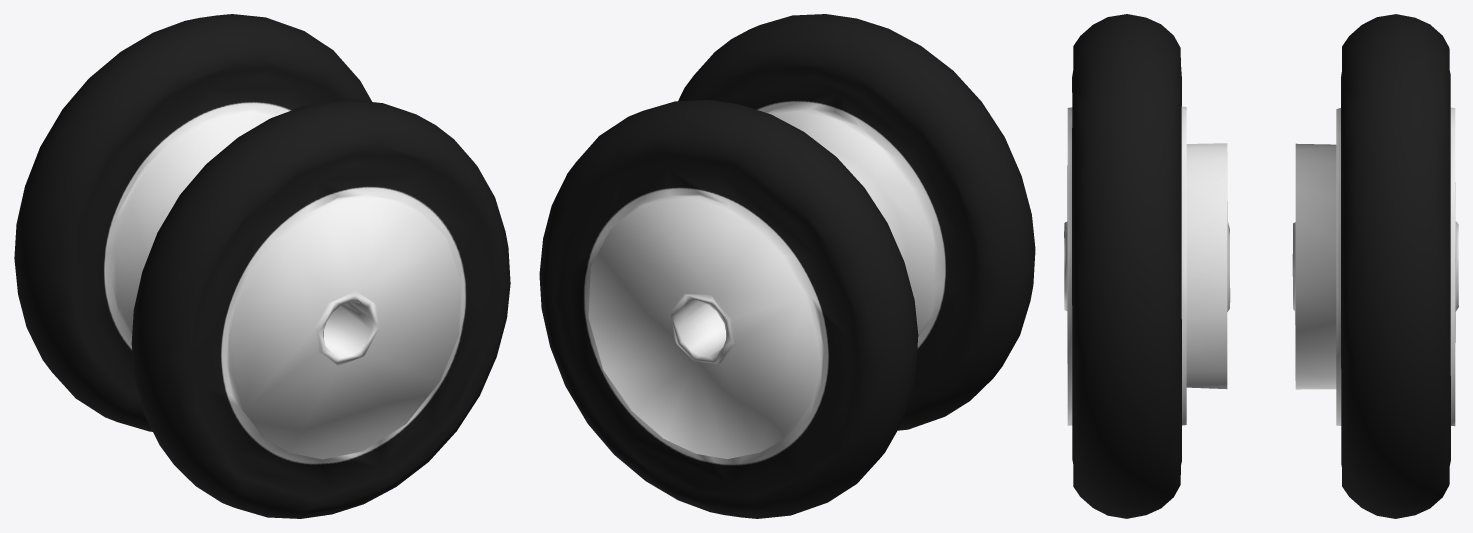
File: wheels.dae
3 views of the same model, side by side, from view 1: azimuth 30°, elevation 25°; view 2: azimuth 150°, elevation 25°; view 3: azimuth 270°, elevation 25° (orthographic). The views are drawn at different scales.
Parts seen in each view (by area): view 1: wheel_r_link, wheel_l_link; view 2: wheel_l_link, wheel_r_link; view 3: wheel_l_link, wheel_r_link.
Part boxes in pixels (<box>): wheel_r_link: <box>131,99,510,518</box>; wheel_l_link: <box>14,14,371,431</box>; wheel_l_link: <box>539,100,918,518</box>; wheel_r_link: <box>678,14,1035,430</box>; wheel_l_link: <box>1292,14,1458,518</box>; wheel_r_link: <box>1064,14,1230,518</box>.
Bounding box in the file's own units: 0.1423 × 0.1164 × 0.1504.
2 materials, 2 textured.
